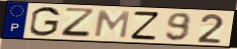2: (197, 12, 226, 45)
9: (164, 12, 194, 42)
G: (28, 5, 62, 38)
M: (92, 9, 132, 40)
Z: (60, 7, 98, 39), (129, 10, 161, 41)
